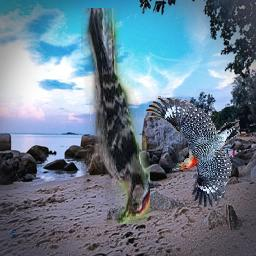Woodpecker: (82, 8, 151, 224), (146, 97, 241, 208)
